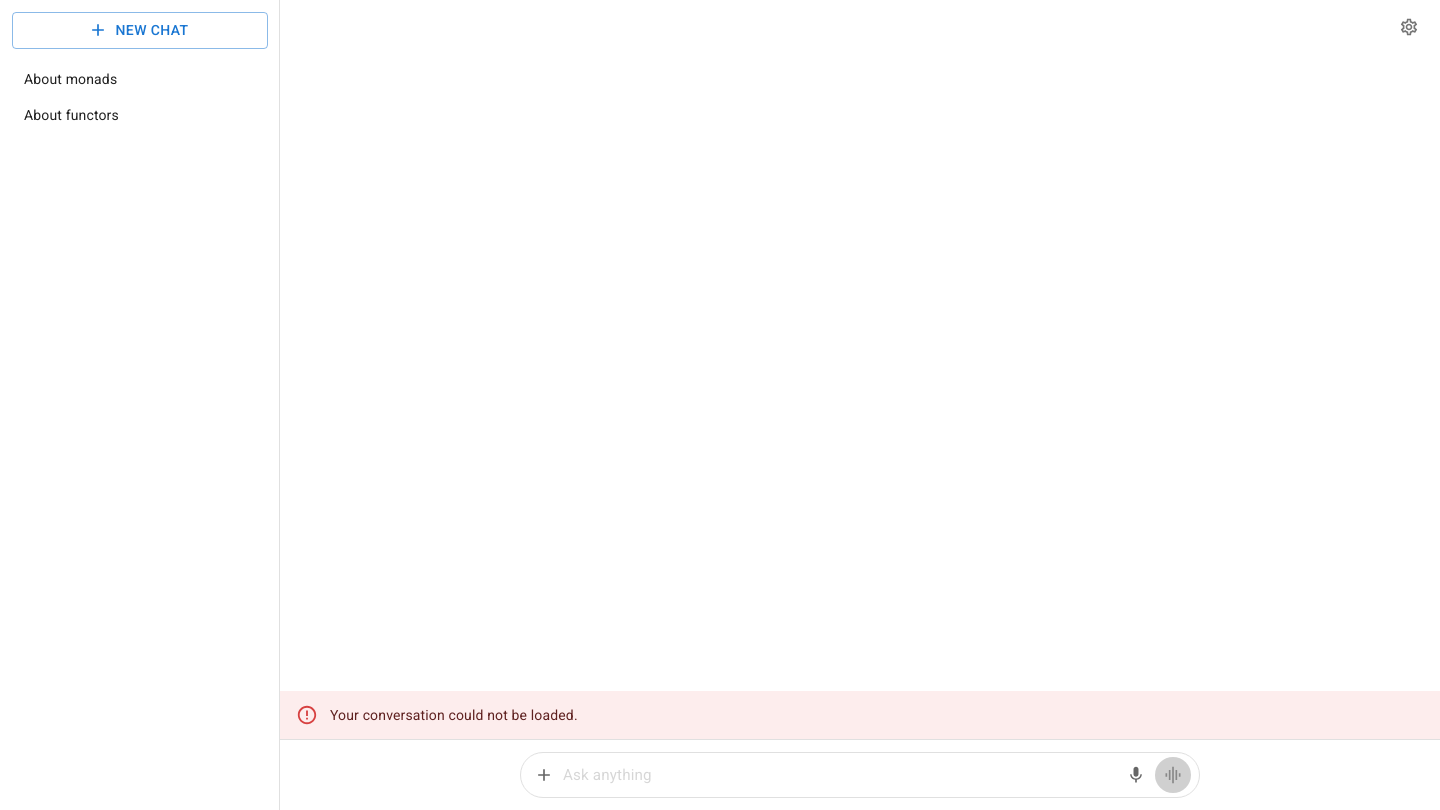
Test: ChatShell › leaves a conversation that failed to load on New chat
Expected: the text "Your conversation could not be loaded." is shown, [330, 707, 578, 723]
Click the button "New chat" at (140, 30), box [12, 12, 268, 48]
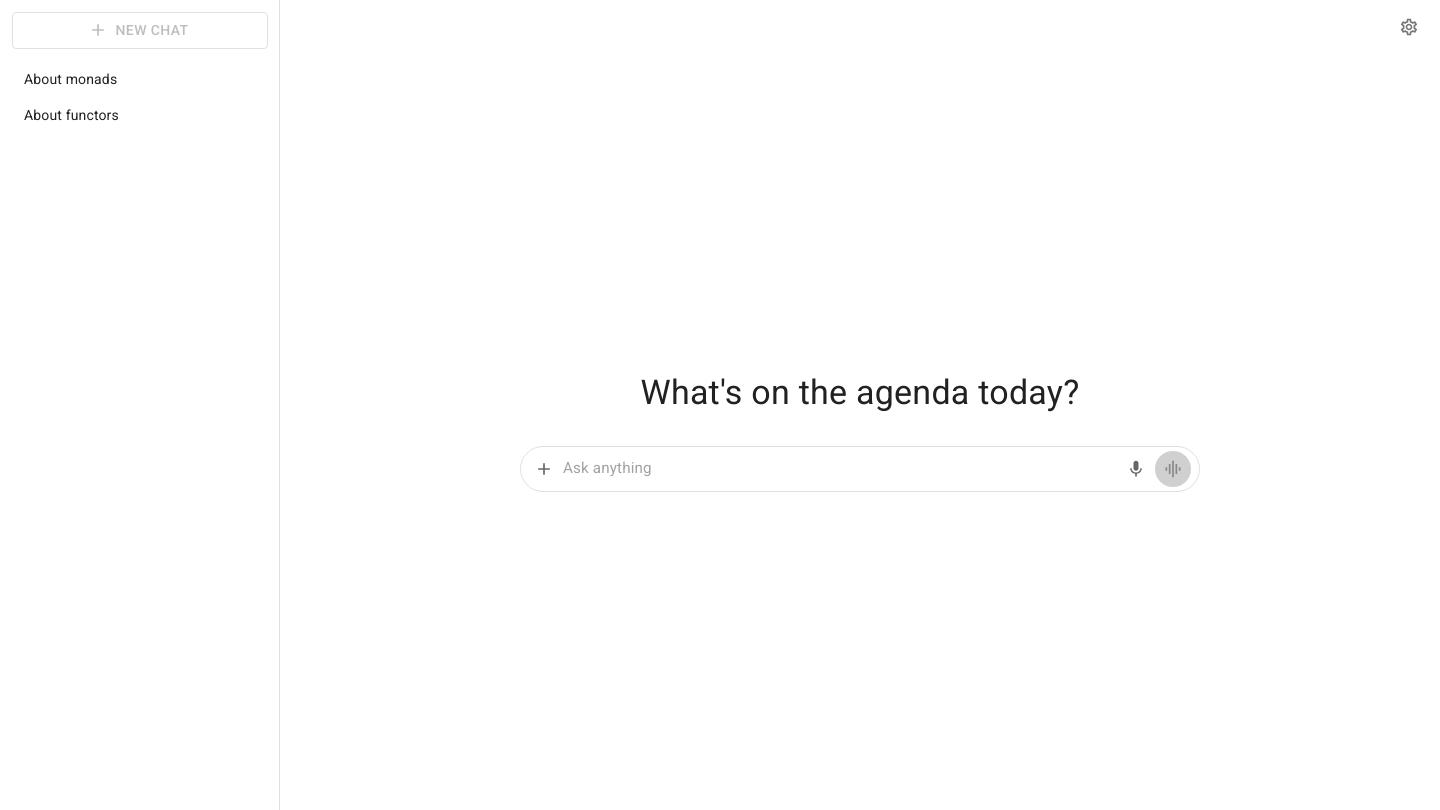
Result: the field is enabled at [563, 454, 1121, 484]
